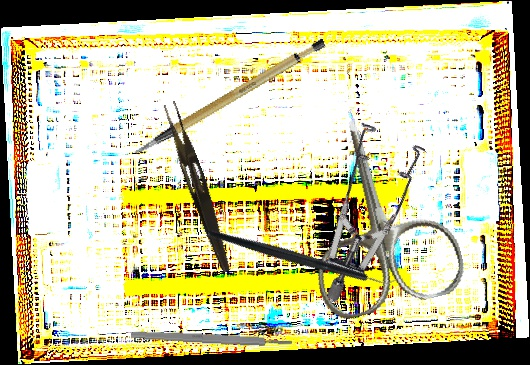Chopper: (205, 168, 403, 343)
Dressing Forceps: (156, 100, 240, 274)
Iris Scissors: (282, 103, 470, 324)
Scalpel Handle: (120, 35, 337, 157), (130, 329, 293, 349)
Speculum: (255, 101, 468, 305)
